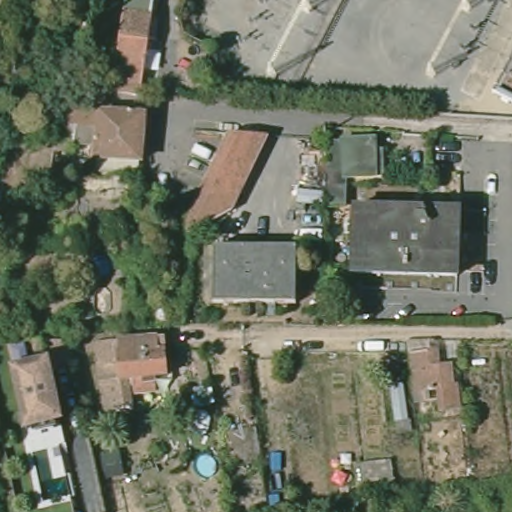pool: (192, 450, 225, 484)
